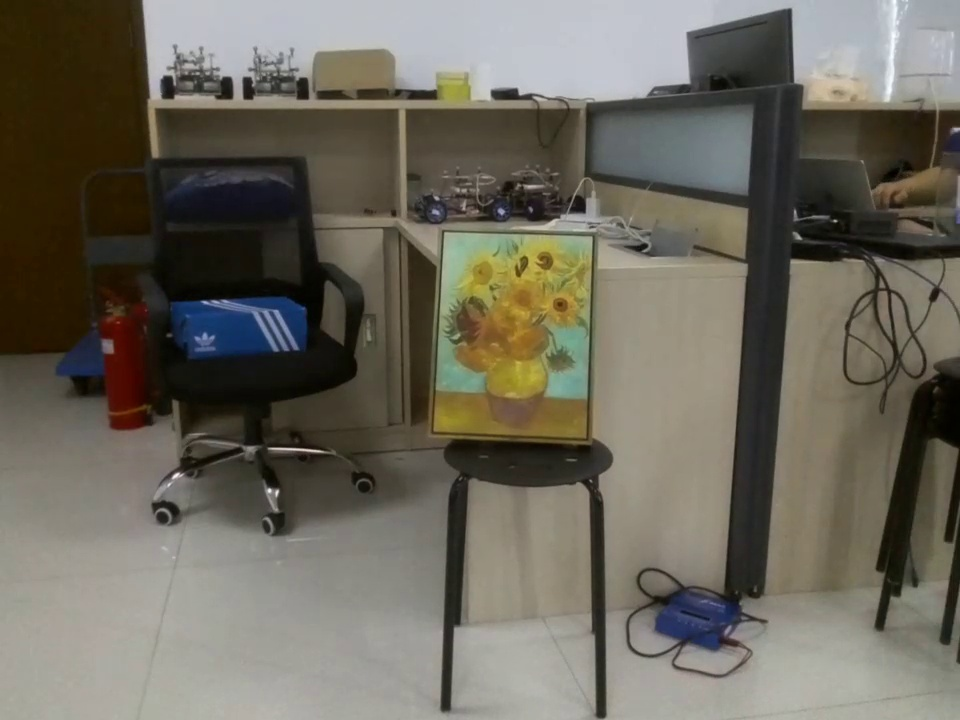painting: (426, 228, 600, 448)
